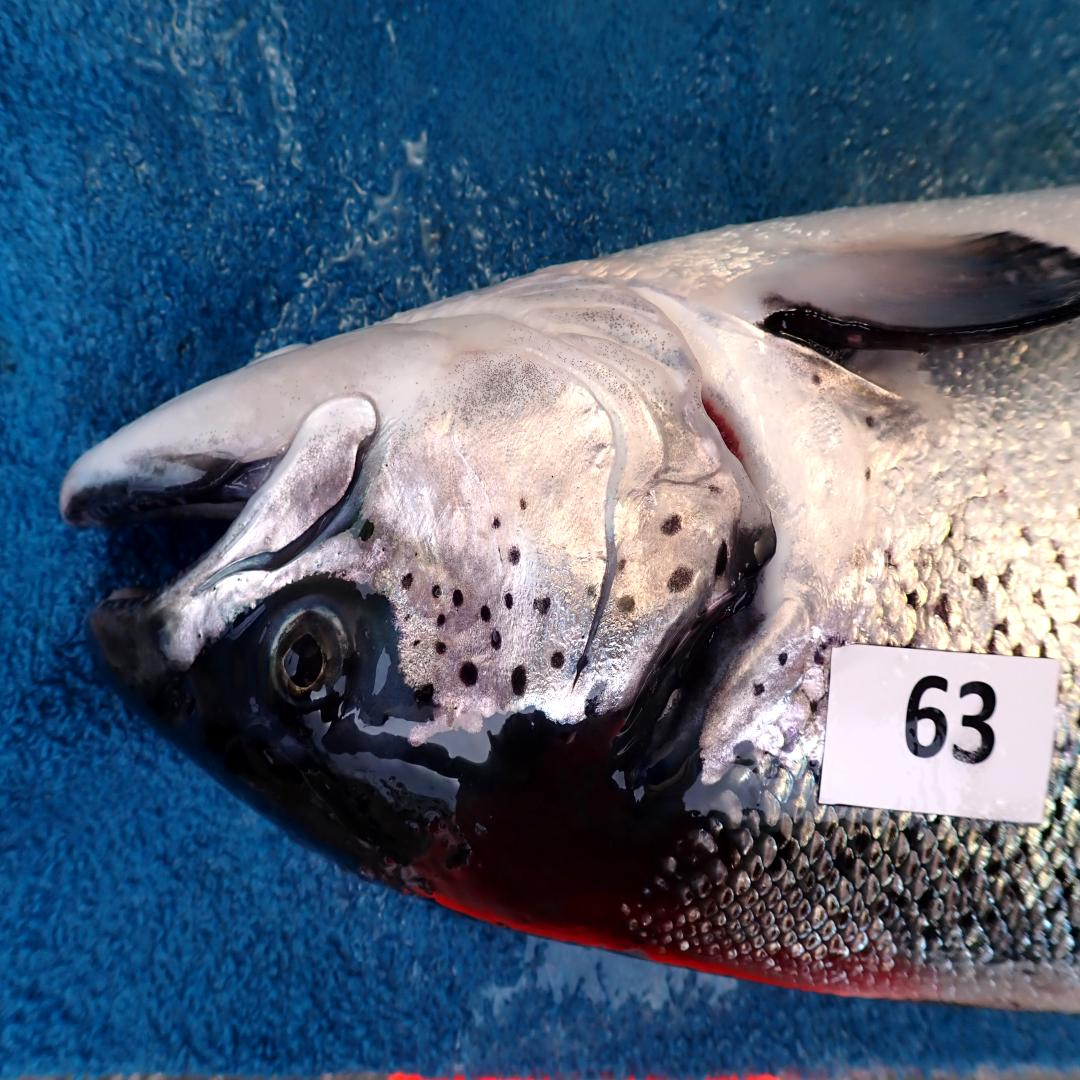roi: (379, 262, 743, 721)
